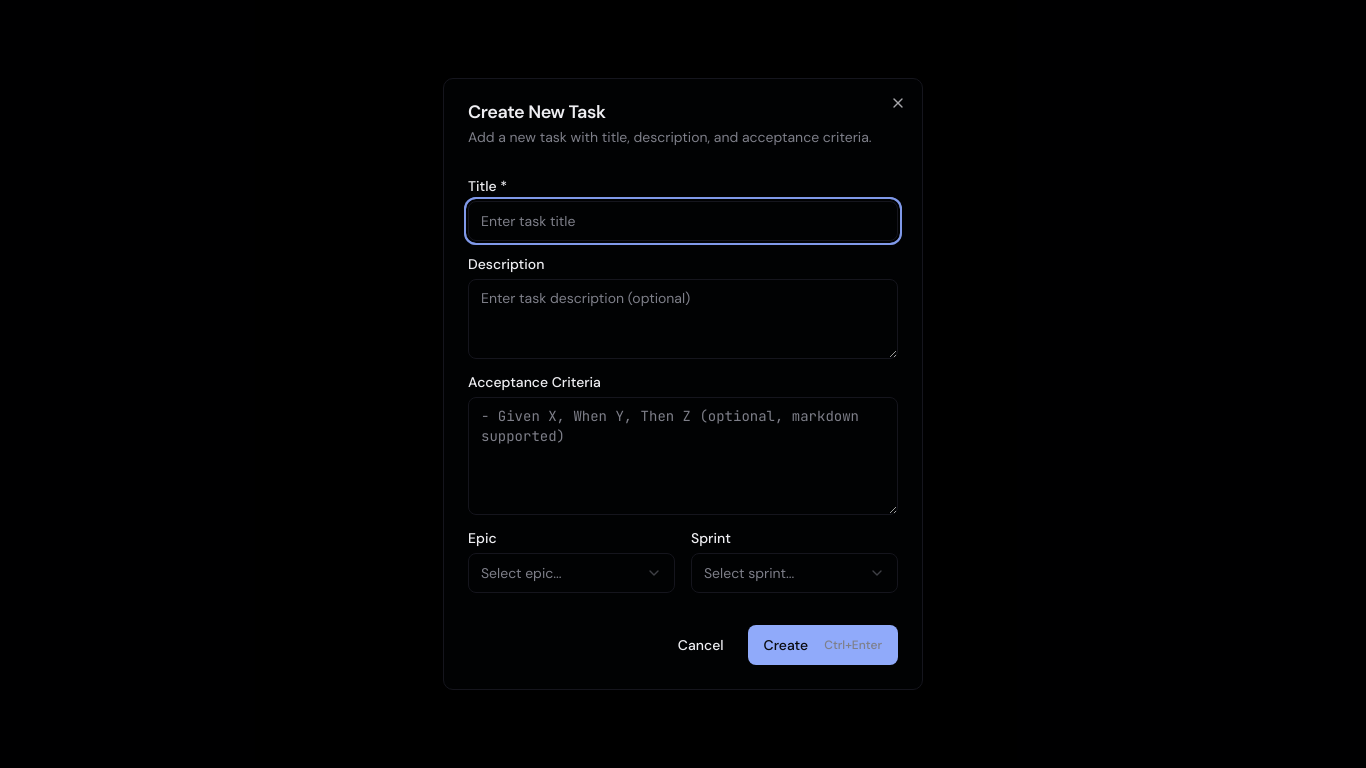
Scenario: CreateTaskDialog › should clear validation error when user starts typing
This screenshot has width=1366, height=768.
# Submit with empty title to trigger error
Click the button with test id "create-button" at coordinates (823, 645), box [748,625,898,665]
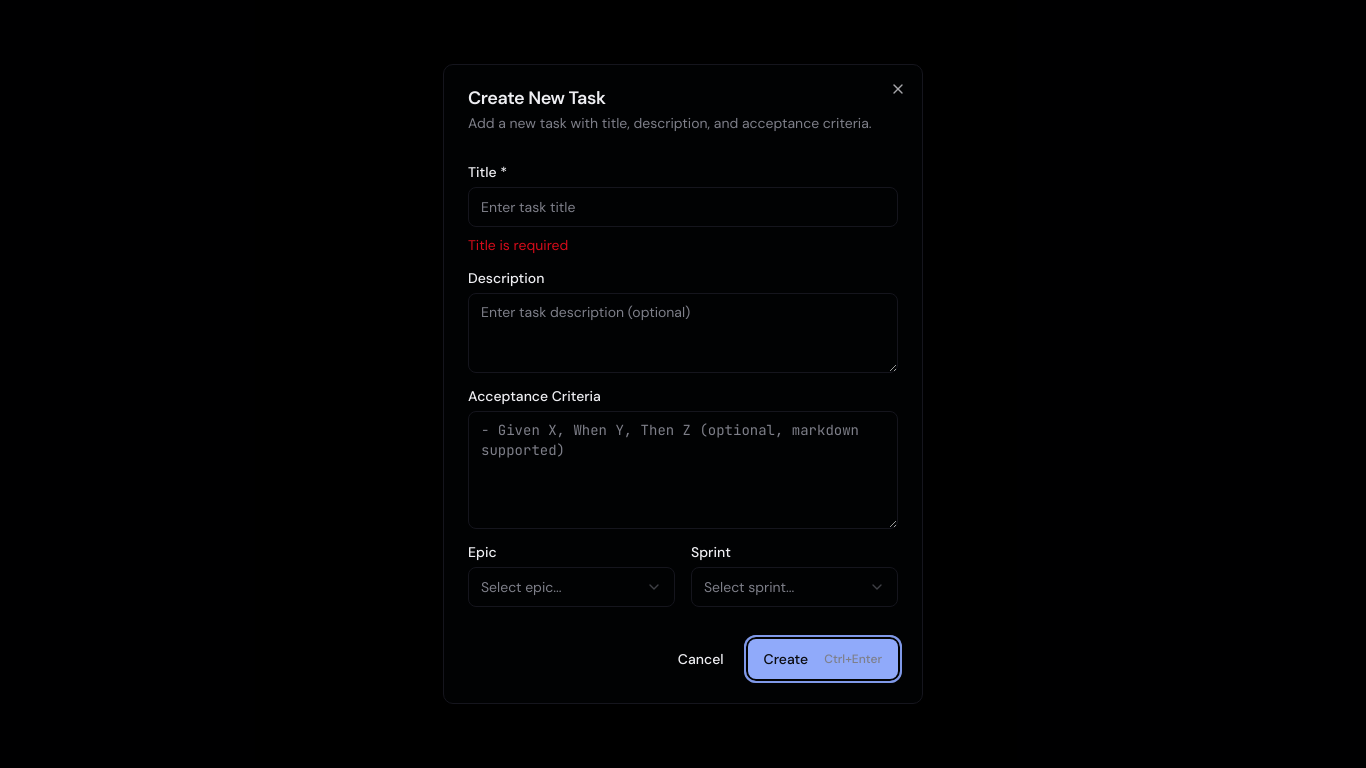
Result: the text "Title is required" is shown at [468,236,568,254]
# Type in the title field
Type "New task" into the field with test id "task-title-input" at coordinates (683, 207), box [468,187,898,227]
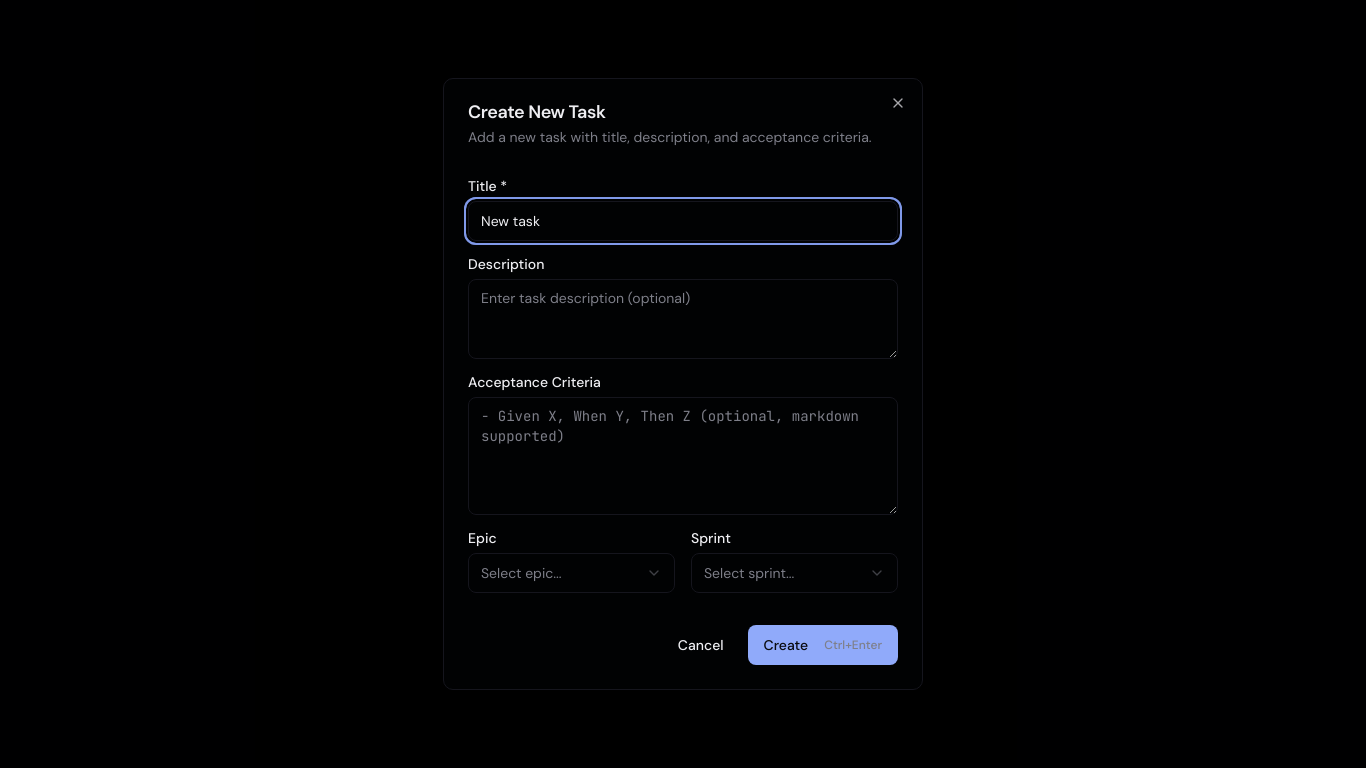
Result: the text with test id "title-error" is gone
